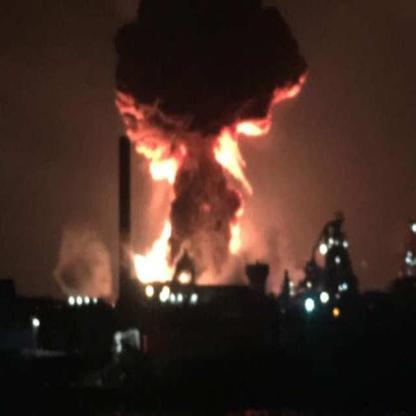fire: (211, 122, 268, 196), (131, 214, 174, 284), (134, 141, 184, 190), (228, 199, 244, 255), (176, 269, 196, 287)
